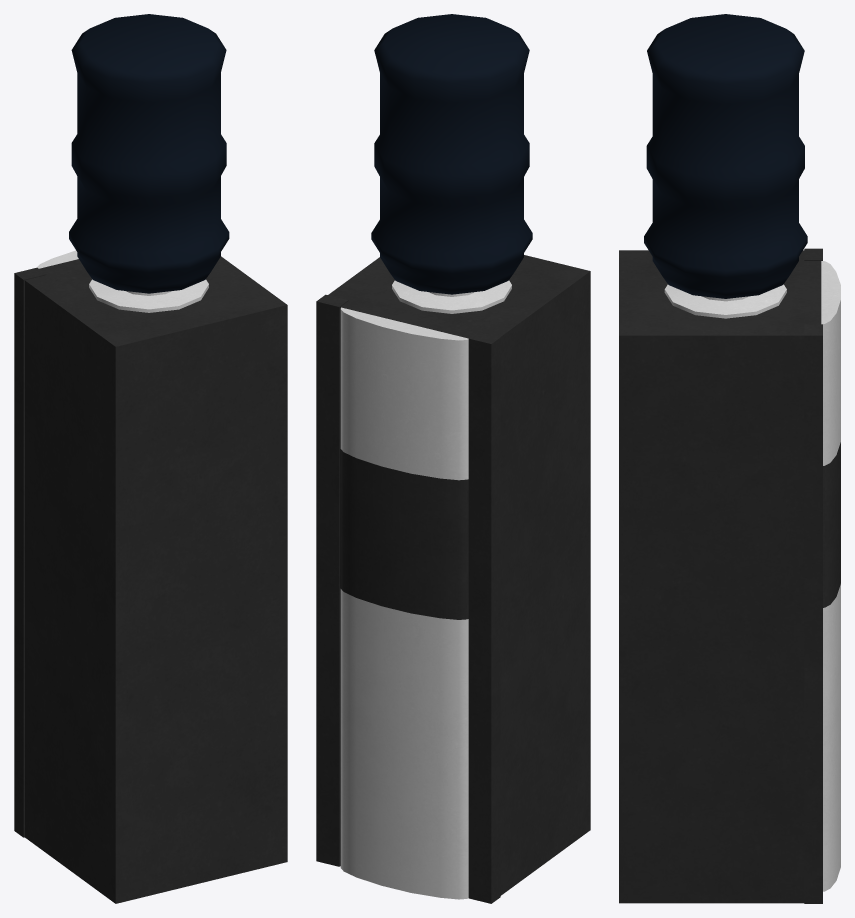
File: SM_咨询室_饮水机_01.fbx
3 renders of one model, left to right at view 1: azimuth 30°, elevation 25°; view 2: azimuth 150°, elevation 25°; view 3: azimuth 270°, elevation 25°, orthographic.
Parts seen in each view (by area): view 1: SM_咨询室_饮水机_01; view 2: SM_咨询室_饮水机_01; view 3: SM_咨询室_饮水机_01.
Boxes of the visible parts, x1,y1,x2,y2 form: SM_咨询室_饮水机_01: (14, 14, 287, 903); SM_咨询室_饮水机_01: (316, 14, 590, 903); SM_咨询室_饮水机_01: (619, 14, 840, 903).
Size of the model in its own units: 315 by 1382 by 340.
